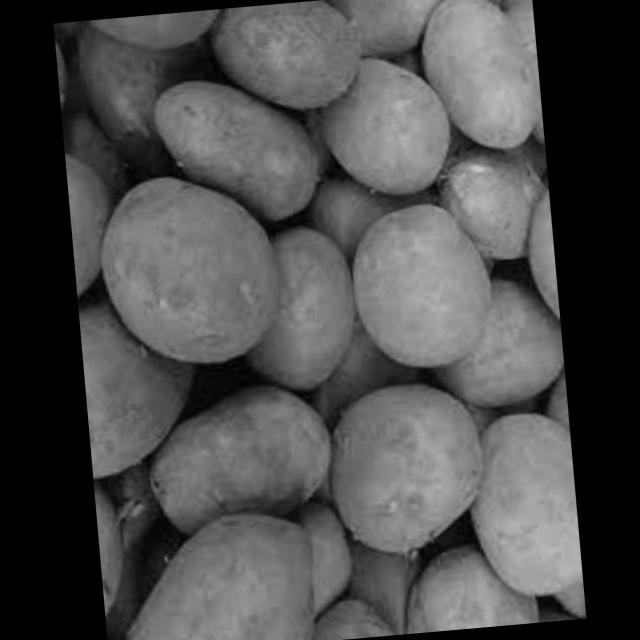potato: (109, 151, 296, 383), (324, 372, 510, 560), (340, 186, 518, 382), (141, 373, 345, 540), (168, 60, 340, 236), (232, 192, 368, 405), (100, 527, 329, 640), (79, 298, 211, 493), (418, 0, 547, 176), (323, 48, 469, 202), (74, 9, 218, 156), (207, 0, 368, 131), (472, 416, 584, 600), (434, 264, 569, 416), (426, 128, 556, 284), (394, 535, 544, 634), (67, 151, 138, 301), (302, 492, 374, 606), (309, 583, 402, 640)
